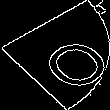O_NW: (9, 21, 101, 89)
